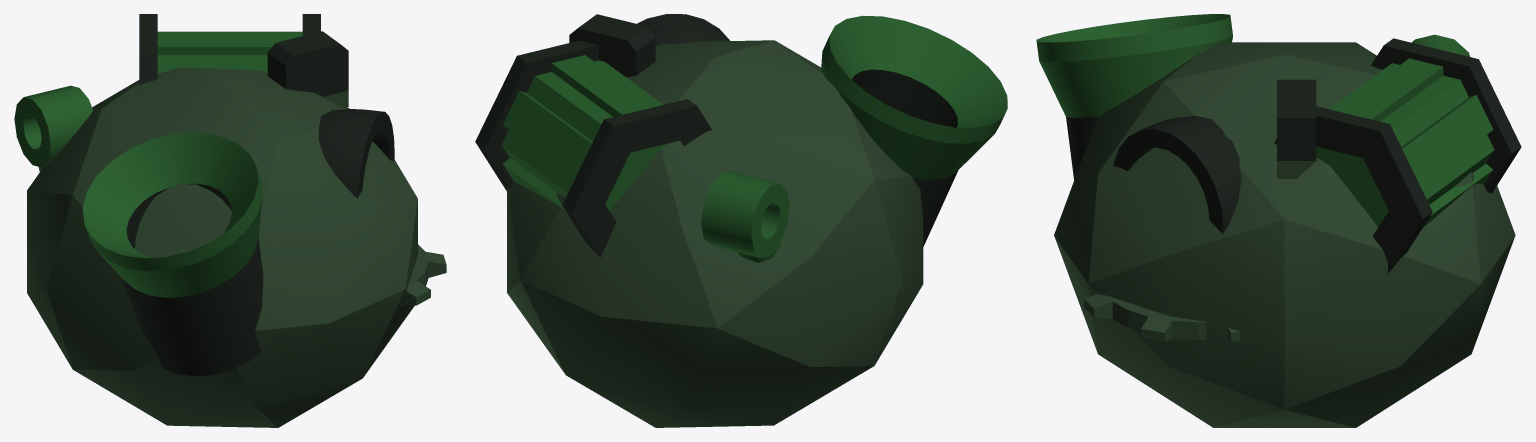
Rendered from Trash_Pile.fbx.
The picture shows the model from 3 angles, left to right: view 1: azimuth 30°, elevation 25°; view 2: azimuth 150°, elevation 25°; view 3: azimuth 270°, elevation 25°; orthographic projection. The views are drawn at different scales.
Visible parts, largest first — view 1: icosphere, pipe_largeExhaust, clipBarrel_large, blaster_back, pipe_largeBend, piston_short, ring_outer; view 2: icosphere, clipBarrel_large, pipe_largeExhaust, piston_short, blaster_back, pipe_largeBend; view 3: icosphere, clipBarrel_large, pipe_largeExhaust, pipe_largeBend, blaster_back, ring_outer, piston_short.
Part boxes in pixels (x1,y1,x2,y2): icosphere: (27, 67, 417, 427); pipe_largeExhaust: (82, 132, 263, 376); clipBarrel_large: (139, 14, 320, 96); blaster_back: (267, 31, 348, 107); pipe_largeBend: (318, 109, 394, 198); piston_short: (14, 85, 93, 171); ring_outer: (400, 244, 446, 305); icosphere: (507, 40, 923, 427); clipBarrel_large: (475, 40, 711, 257); pipe_largeExhaust: (821, 15, 1007, 246); piston_short: (701, 171, 789, 262); blaster_back: (569, 14, 655, 76); pipe_largeBend: (637, 14, 729, 45); icosphere: (1054, 42, 1515, 427); clipBarrel_large: (1274, 38, 1521, 273); pipe_largeExhaust: (1036, 14, 1232, 180); pipe_largeBend: (1113, 115, 1241, 233); blaster_back: (1277, 79, 1316, 178); ring_outer: (1084, 293, 1239, 341); piston_short: (1412, 34, 1469, 56).
Size of the model in its own units: 23.6 by 20.8 by 24.6.
